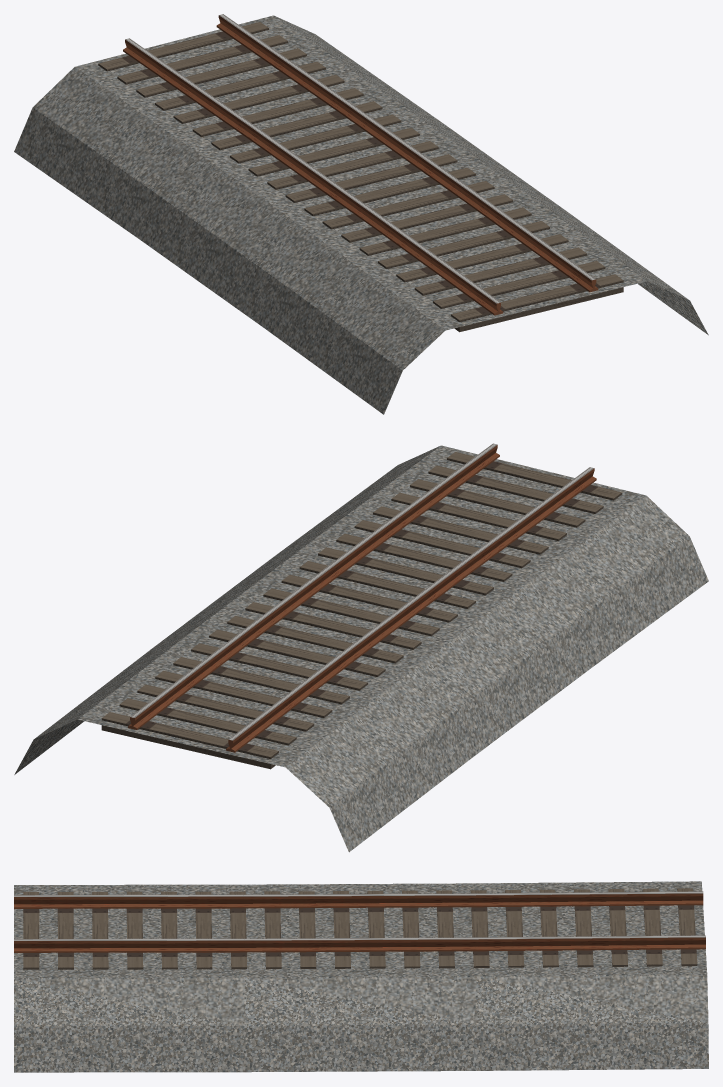
Rendered from rail_track_curve_r400_10m_l_v2.glb.
3 views of the same model, one above another, from view 1: azimuth 30°, elevation 25°; view 2: azimuth 150°, elevation 25°; view 3: azimuth 270°, elevation 25° (orthographic). The views are drawn at different scales.
Parts seen in each view (by area): view 1: rail_track_curve_r400_10m_l_v2; view 2: rail_track_curve_r400_10m_l_v2; view 3: rail_track_curve_r400_10m_l_v2.
Part boxes in pixels (x1=…): rail_track_curve_r400_10m_l_v2: x1=14, y1=14, x2=708, y2=414; rail_track_curve_r400_10m_l_v2: x1=14, y1=443, x2=708, y2=852; rail_track_curve_r400_10m_l_v2: x1=14, y1=881, x2=708, y2=1072.
Size of what is drawn, in the model's own units: 5.27 by 1.27 by 10.06.
2 materials, 2 textured.
